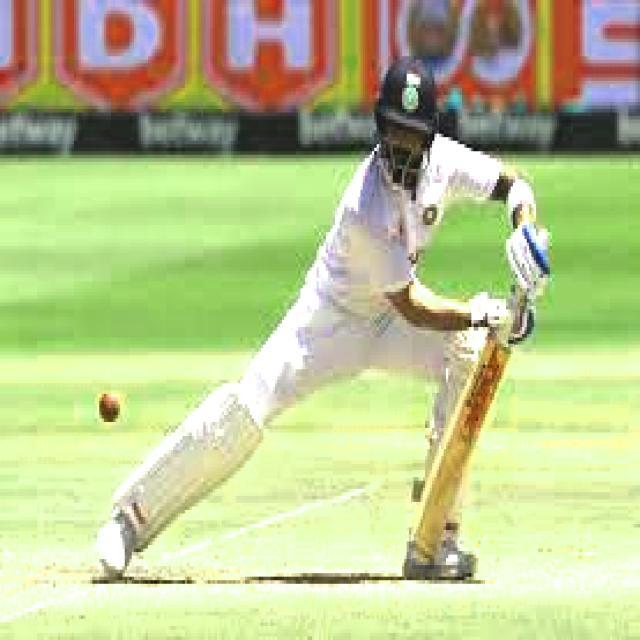bat: (405, 333, 507, 584)
toe: (411, 534, 447, 552)
